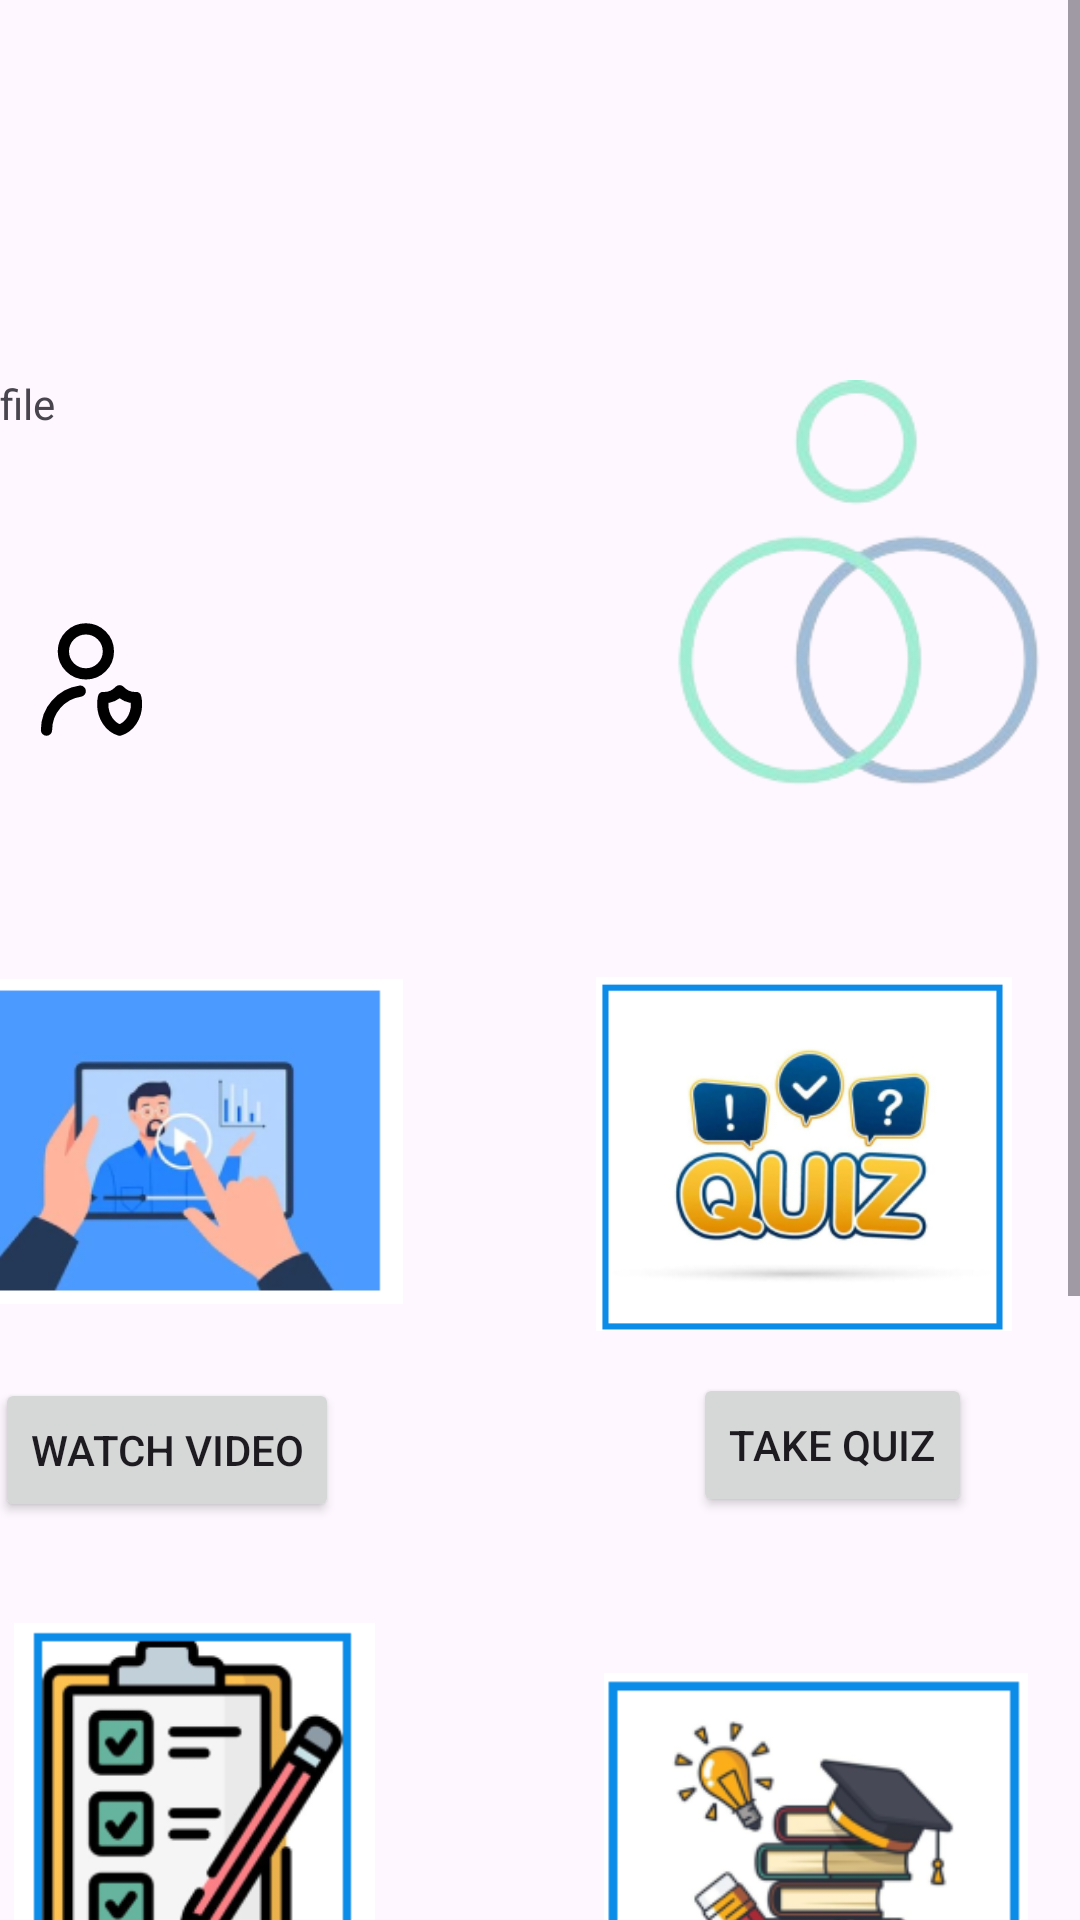

Where icons sit on this 1080 x 1920 app screen, as (x1, y1, x2, y2):
user shield: (41, 623, 142, 736)
